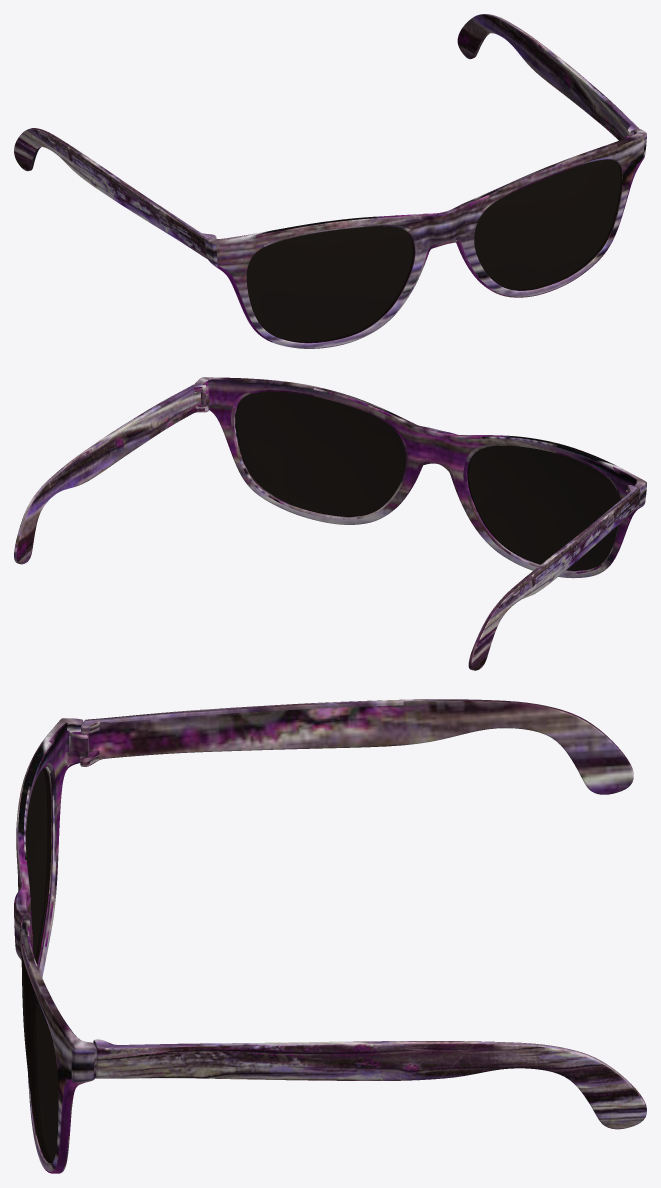
3 views of the same model, one above another, from view 1: azimuth 30°, elevation 25°; view 2: azimuth 150°, elevation 25°; view 3: azimuth 270°, elevation 25° (orthographic). The views are drawn at different scales.
Parts seen in each view (by area): view 1: 12983_Sunglasses_v2_l3.001; view 2: 12983_Sunglasses_v2_l3.001; view 3: 12983_Sunglasses_v2_l3.001.
Part boxes in pixels (bbox=[...]): 12983_Sunglasses_v2_l3.001: bbox=[14, 14, 646, 348]; 12983_Sunglasses_v2_l3.001: bbox=[14, 377, 646, 670]; 12983_Sunglasses_v2_l3.001: bbox=[14, 699, 646, 1173].
Size of the model in its own units: 147 by 39.31 by 113.
Materials: 2 (1 with a texture image).
